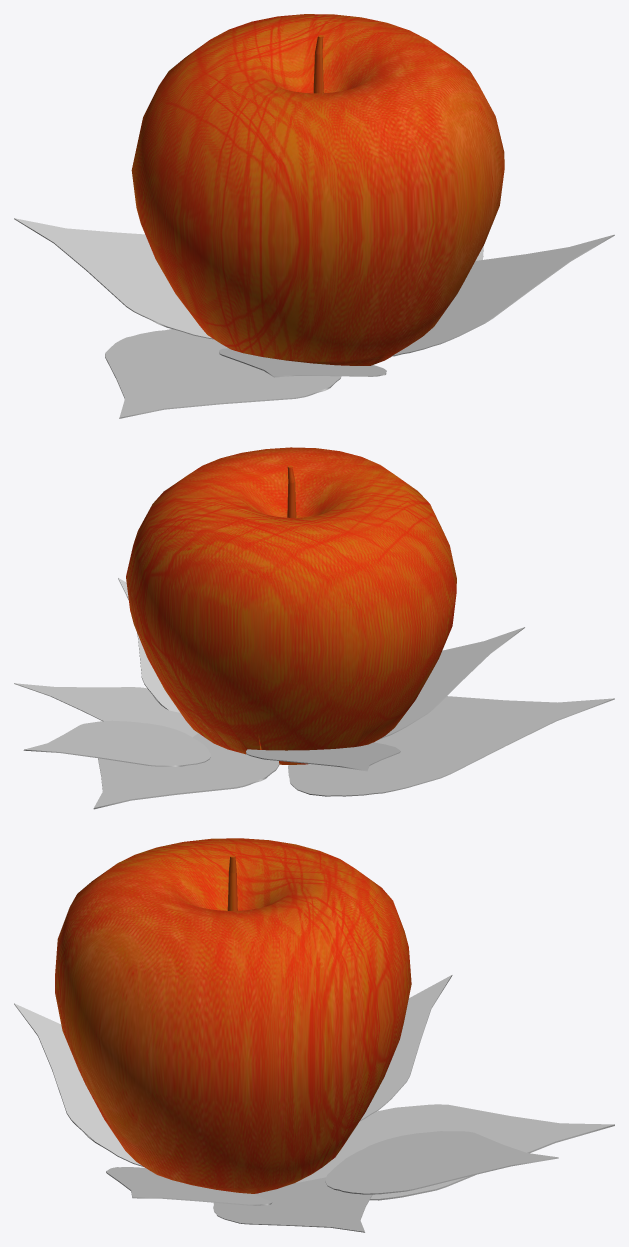
The model's file is apple_pack.FBX.
3 renders of one model, top to bottom at view 1: azimuth 30°, elevation 25°; view 2: azimuth 150°, elevation 25°; view 3: azimuth 270°, elevation 25°, orthographic. The views are drawn at different scales.
Visible parts, largest first — view 1: Sphere001; view 2: Sphere001; view 3: Sphere001.
Boxes of the visible parts, <box> form: Sphere001: <box>14,14,614,418</box>; Sphere001: <box>14,447,614,809</box>; Sphere001: <box>14,838,614,1232</box>.
Bounding box in the file's own units: 103 × 59.09 × 101.
